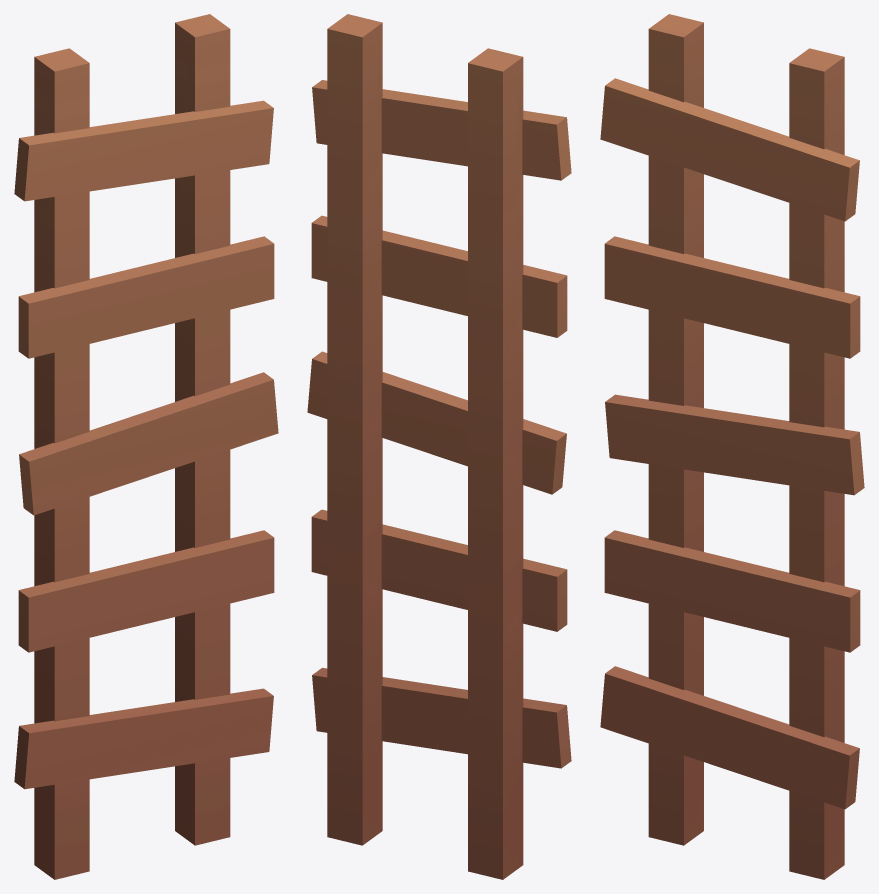
File: kk_ladder_v1.glb
3 renders of one model, left to right at view 1: azimuth 30°, elevation 25°; view 2: azimuth 150°, elevation 25°; view 3: azimuth 330°, elevation 25°, orthographic.
Visible parts, largest first — view 1: ladder; view 2: ladder; view 3: ladder.
Boxes of the visible parts, x1,y1,x2,y2 form: ladder: (14, 14, 278, 879); ladder: (307, 14, 571, 879); ladder: (600, 14, 864, 879).
Size of the model in its own units: 0.2532 by 0.77 by 0.0508.
1 material, 1 textured.
